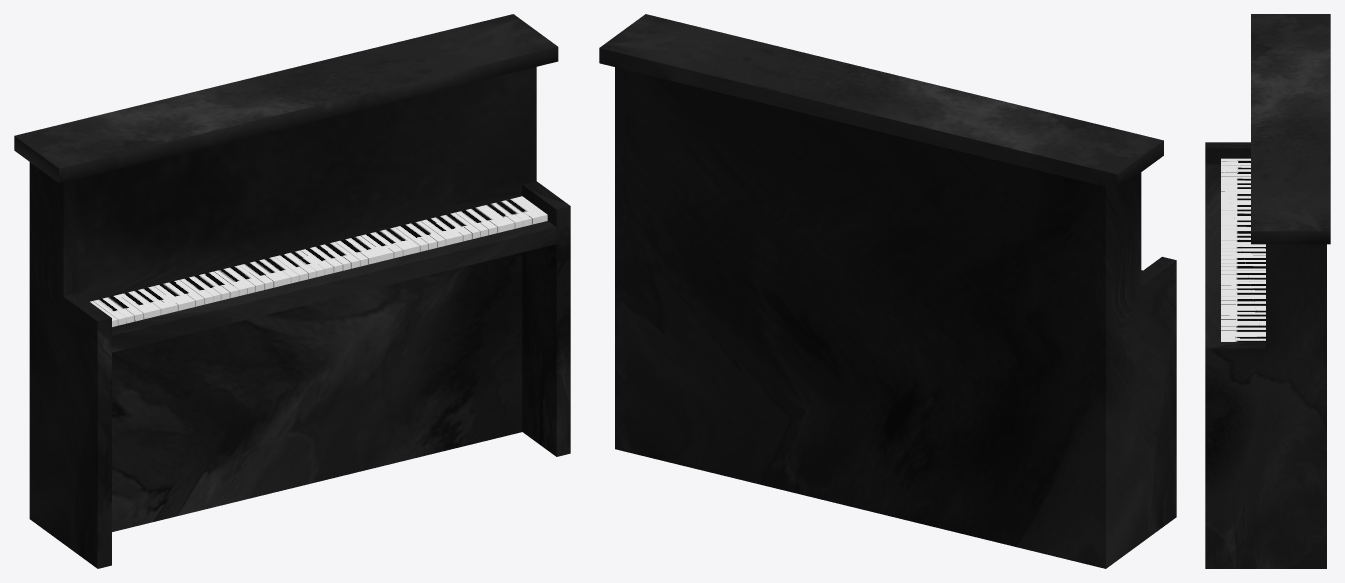
File: PianoTextured1.fbx
3 renders of one model, left to right at view 1: azimuth 30°, elevation 25°; view 2: azimuth 150°, elevation 25°; view 3: azimuth 270°, elevation 25°, orthographic. The views are drawn at different scales.
Parts seen in each view (by area): view 1: PianoBase; view 2: PianoBase; view 3: PianoBase.
Part boxes in pixels (x1,y1,x2,y2): PianoBase: (14, 14, 570, 568); PianoBase: (599, 14, 1176, 568); PianoBase: (1205, 14, 1330, 568).
Bounding box in the file's own units: 2.11 × 1.56 × 0.5155.
1 material, 1 textured.
